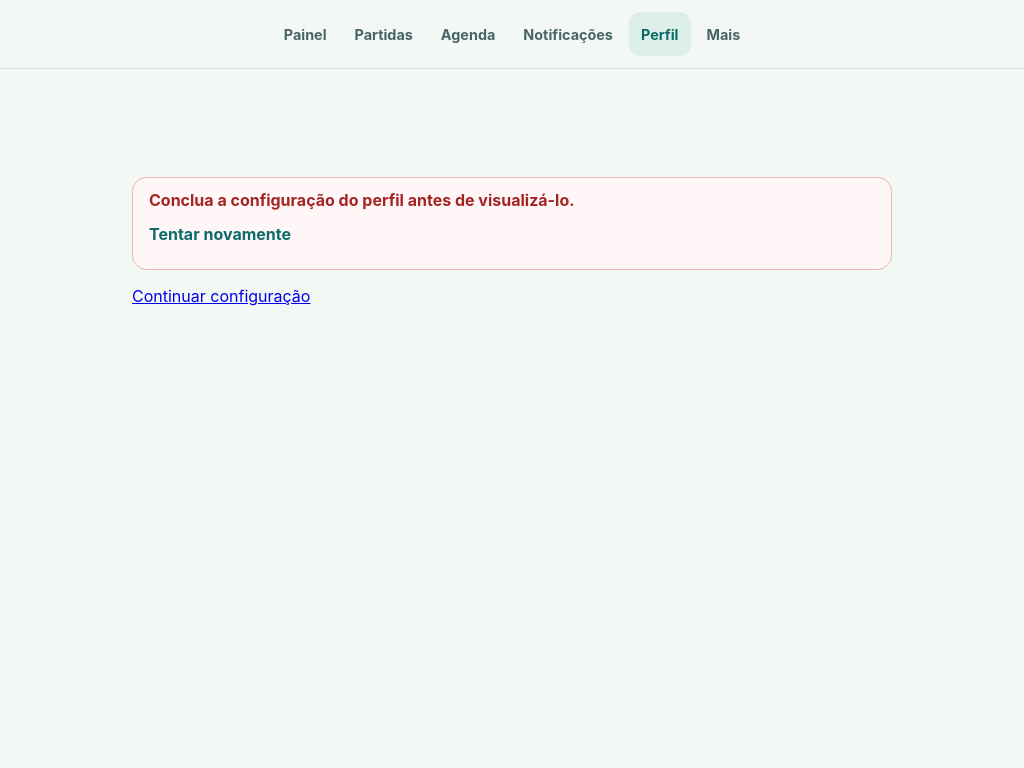
Test: profile editing › offers retry when loading the profile fails
Click the button "Tentar novamente" at [220, 234], box [149,210,291,257]
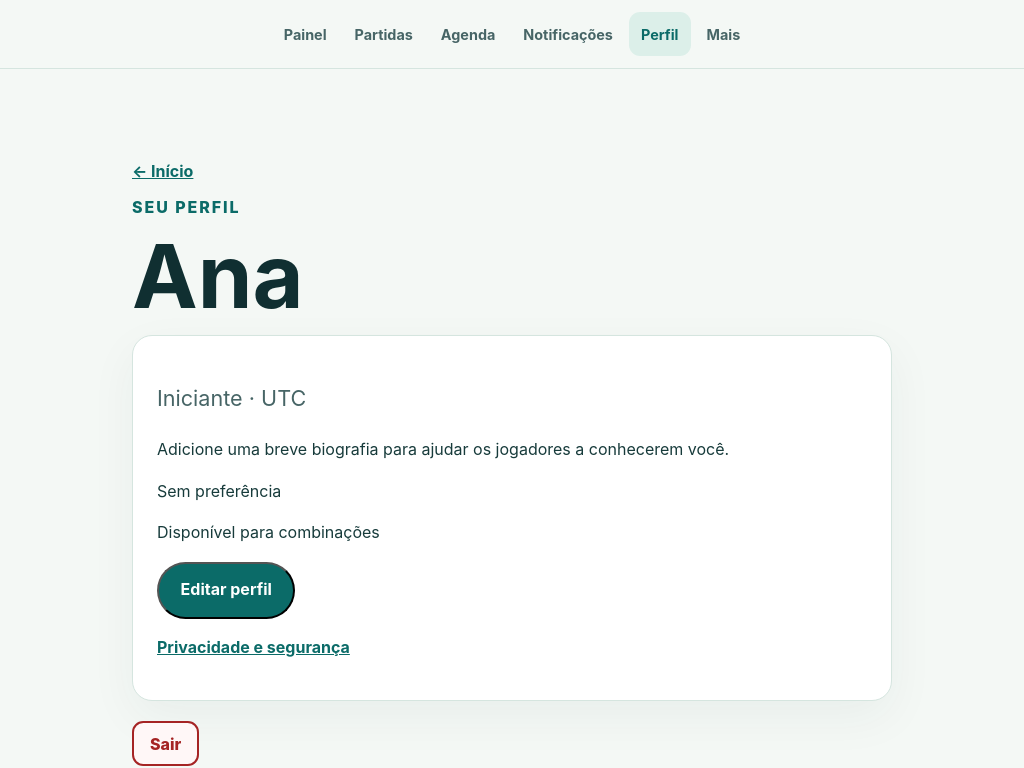
expect the heading "Ana" is shown: met, box [132,223,304,329]
